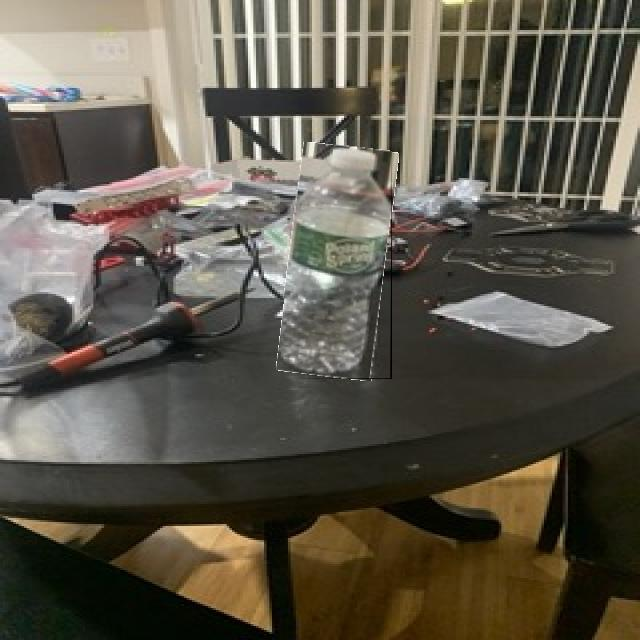water_bottle: (284, 144, 392, 379)
